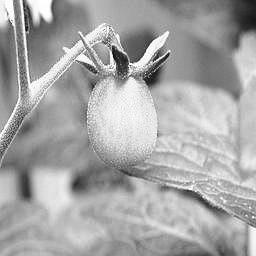bukan telur: (91, 75, 158, 164)
